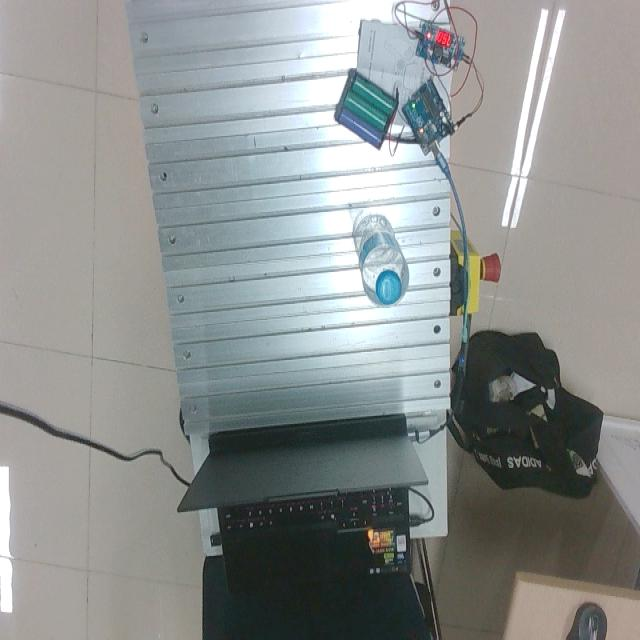lavie: (354, 213, 408, 308)
